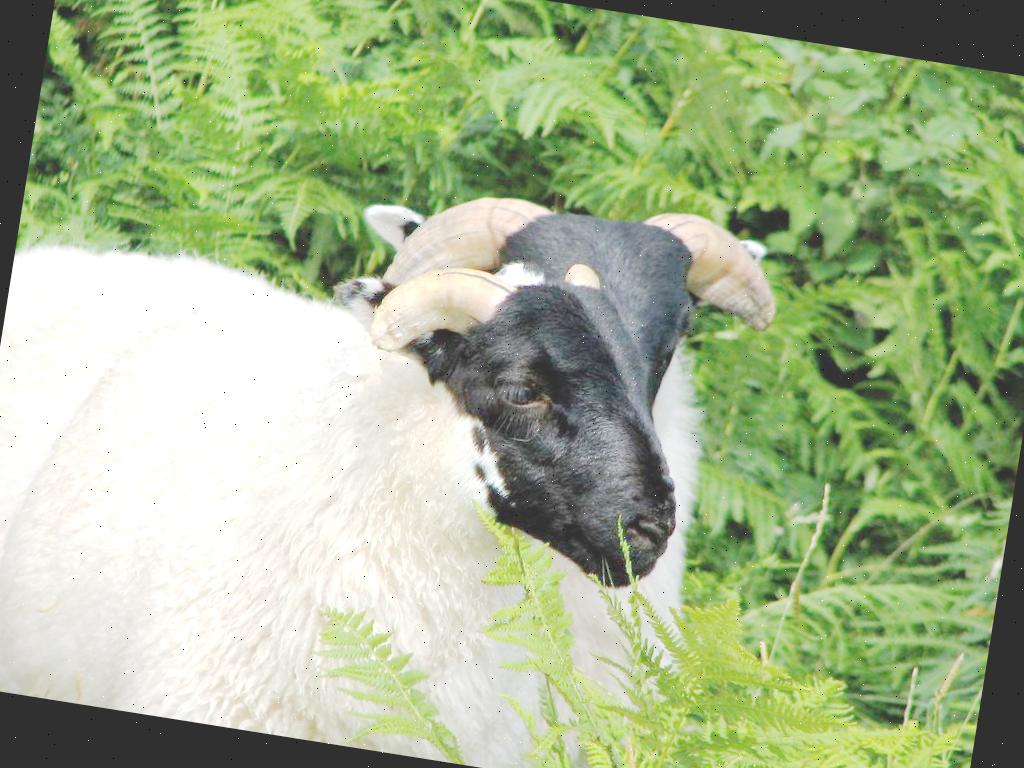Sheep: (0, 178, 713, 768), (293, 155, 794, 730)
